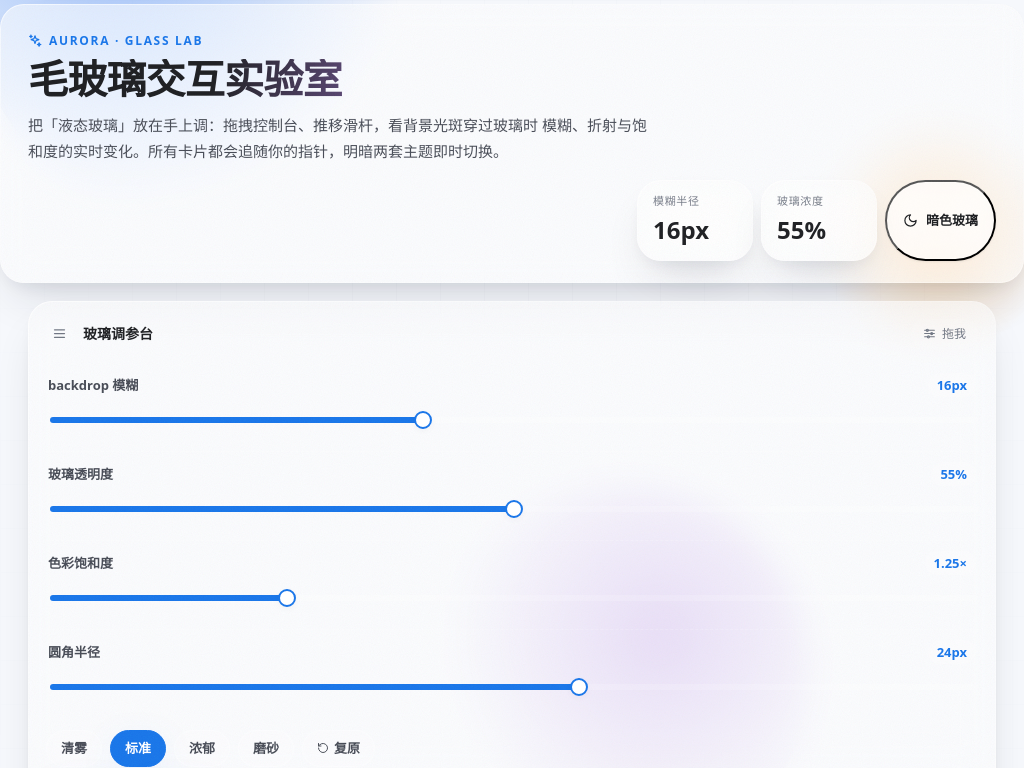
GlassLab 毛玻璃交互实验室 › 「磨砂」预设联动滑杆与 CSS 变量，「复原」回到标准
The image size is (1024, 768).
Click the button "磨砂": (266, 748) x1=238 y1=730 x2=294 y2=767
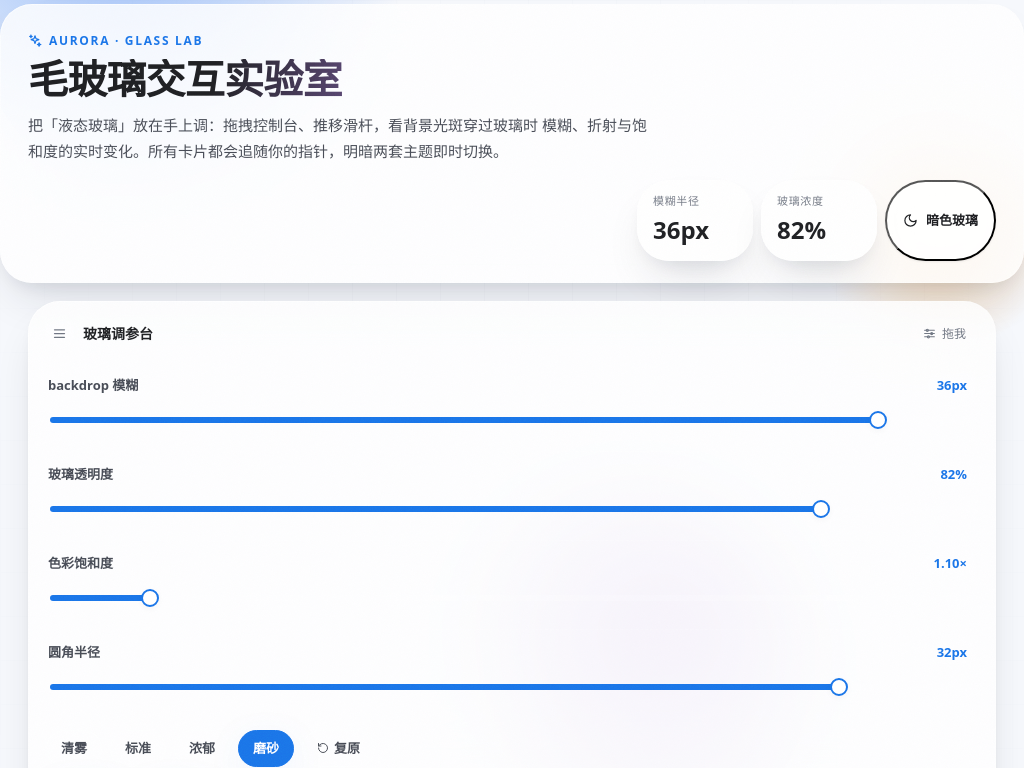
Result: the slider with class "glab-slider" holds "36" at x1=50 y1=407 x2=978 y2=433
Result: the text "36px" below "模糊半径" is shown at x1=653 y1=213 x2=709 y2=246
Click the button "复原": (339, 748) x1=302 y1=730 x2=375 y2=767
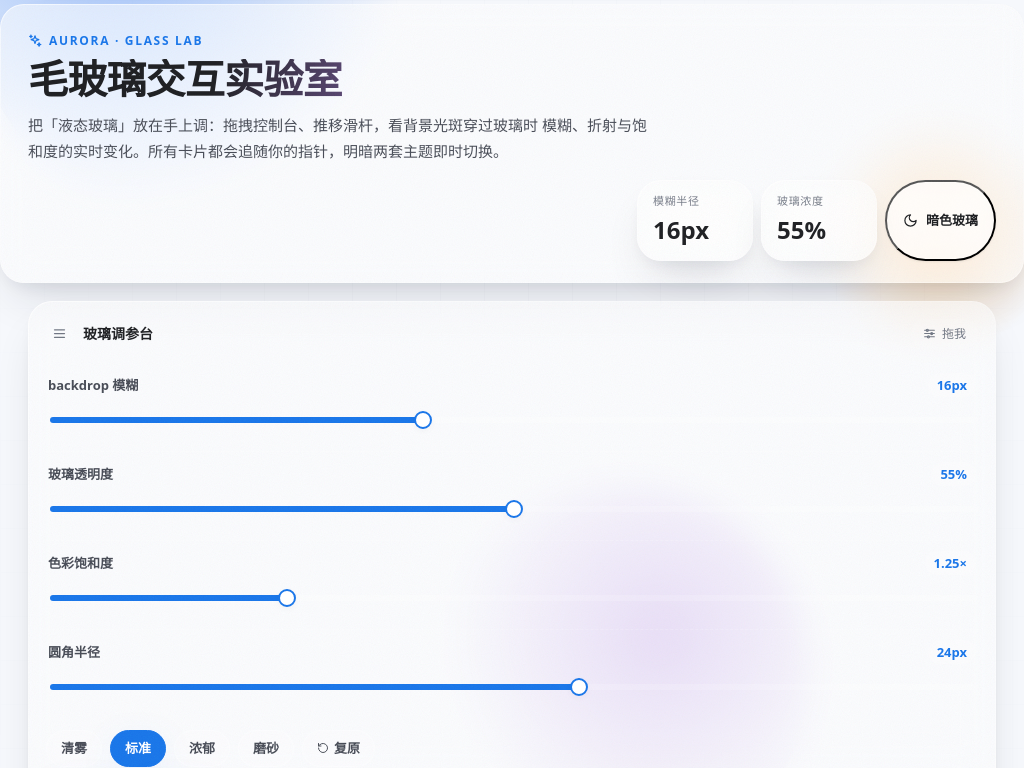
Result: the slider with class "glab-slider" holds "16" at x1=50 y1=407 x2=978 y2=433
Result: the text "16px" below "模糊半径" is shown at x1=653 y1=213 x2=709 y2=246
